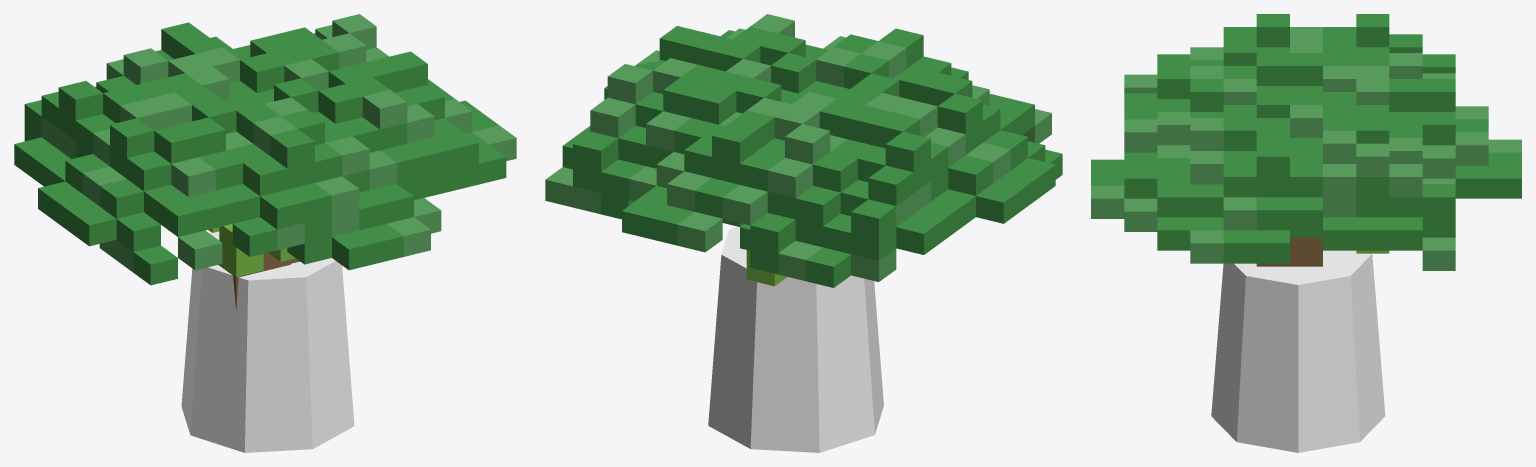
Rendered from palmeira_jovem.glb.
3 renders of one model, left to right at view 1: azimuth 30°, elevation 25°; view 2: azimuth 150°, elevation 25°; view 3: azimuth 270°, elevation 25°, orthographic. The views are drawn at different scales.
Visible parts, largest first — view 1: Cylinder_001_24, Colisao; view 2: Cylinder_001_24, Colisao; view 3: Cylinder_001_24, Colisao.
Boxes of the visible parts, x1,y1,x2,y2 form: Cylinder_001_24: (14, 14, 516, 310); Colisao: (181, 231, 354, 452); Cylinder_001_24: (545, 14, 1062, 287); Colisao: (708, 226, 883, 452); Cylinder_001_24: (1091, 14, 1521, 270); Colisao: (1211, 250, 1385, 452).
Size of the model in its own units: 3.26 by 2.54 by 3.05.
